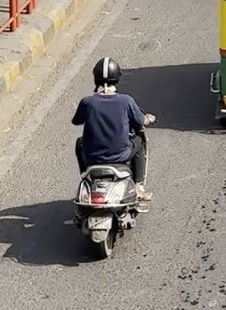BikeWithRider: (63, 52, 160, 260)
Helmet: (87, 52, 126, 95)
